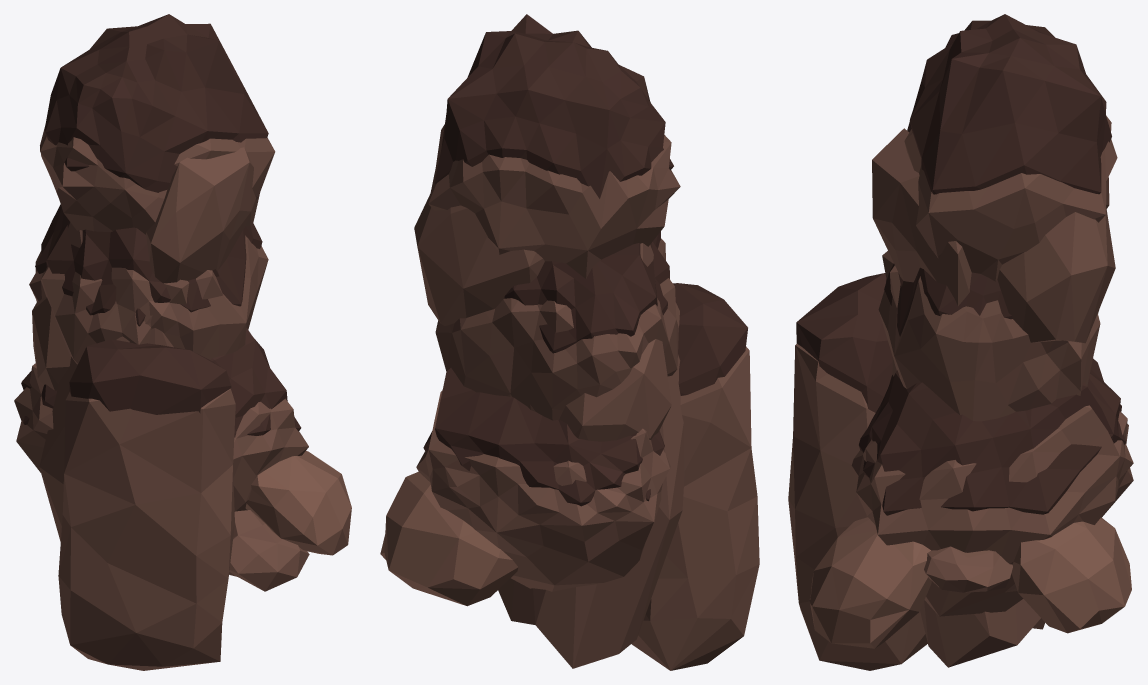
Rendered from Brown_rock_021.fbx.
3 views of the same model, side by side, from view 1: azimuth 30°, elevation 25°; view 2: azimuth 150°, elevation 25°; view 3: azimuth 270°, elevation 25° (orthographic). The views are drawn at different scales.
Visible parts, largest first — view 1: Brown_rock_021; view 2: Brown_rock_021; view 3: Brown_rock_021.
Part boxes in pixels (left/top/right/bottom): Brown_rock_021: left=14, top=14, right=351, bottom=670; Brown_rock_021: left=380, top=14, right=759, bottom=670; Brown_rock_021: left=788, top=14, right=1133, bottom=670.
Size of the model in its own units: 1553 by 1502 by 3155.
